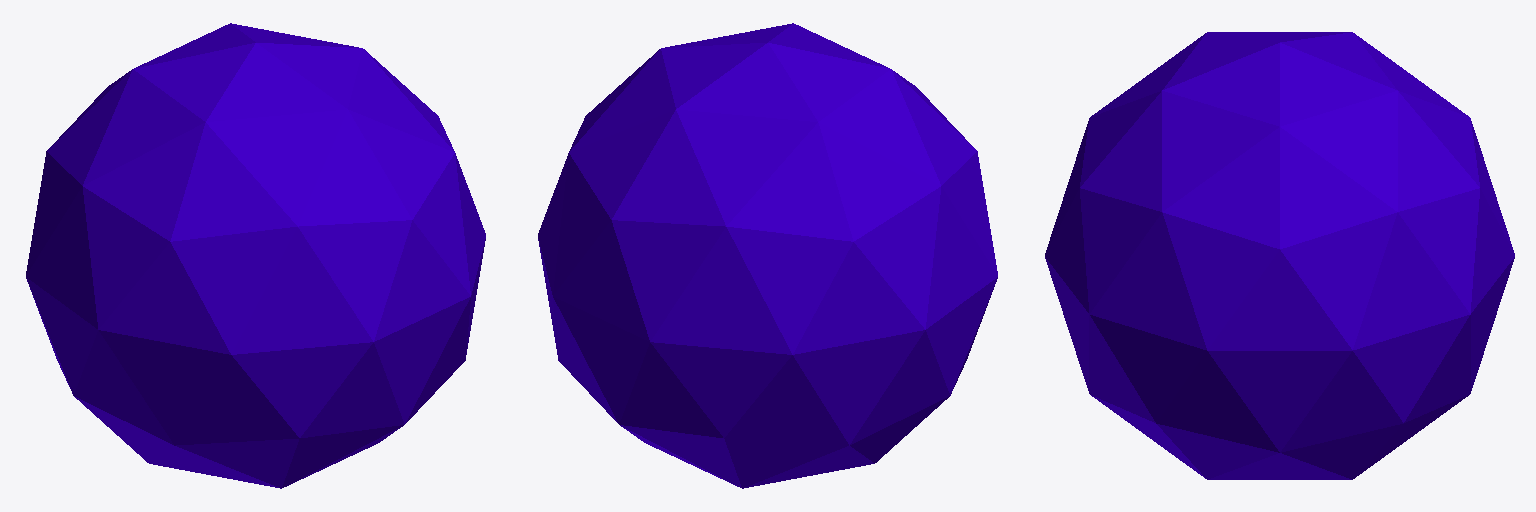
Rendered from specularisosphere.obj.
The picture shows the model from 3 angles: view 1: azimuth 30°, elevation 25°; view 2: azimuth 150°, elevation 25°; view 3: azimuth 270°, elevation 25°; orthographic projection.
Parts seen in each view (by area): view 1: Icosphere; view 2: Icosphere; view 3: Icosphere.
Part boxes in pixels (x1,y1,x2,y2): Icosphere: (26,23,485,488); Icosphere: (538,23,997,488); Icosphere: (1045,32,1514,479).
Bounding box in the file's own units: 1.9 × 2 × 2.